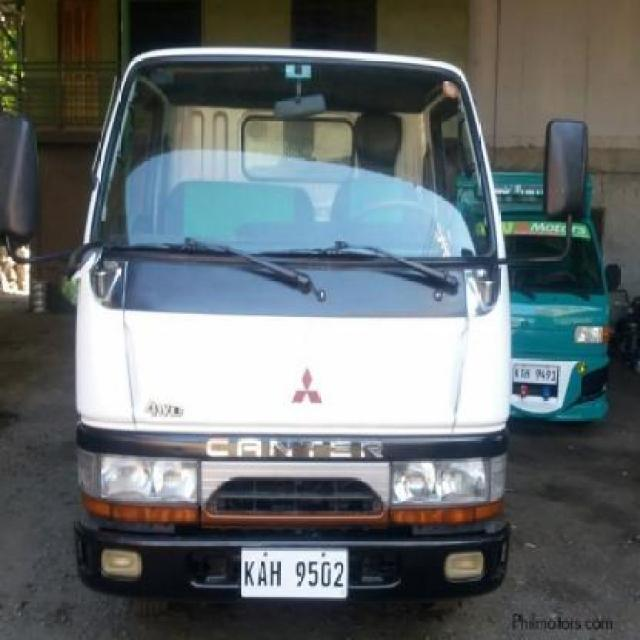truck: (3, 48, 590, 606)
